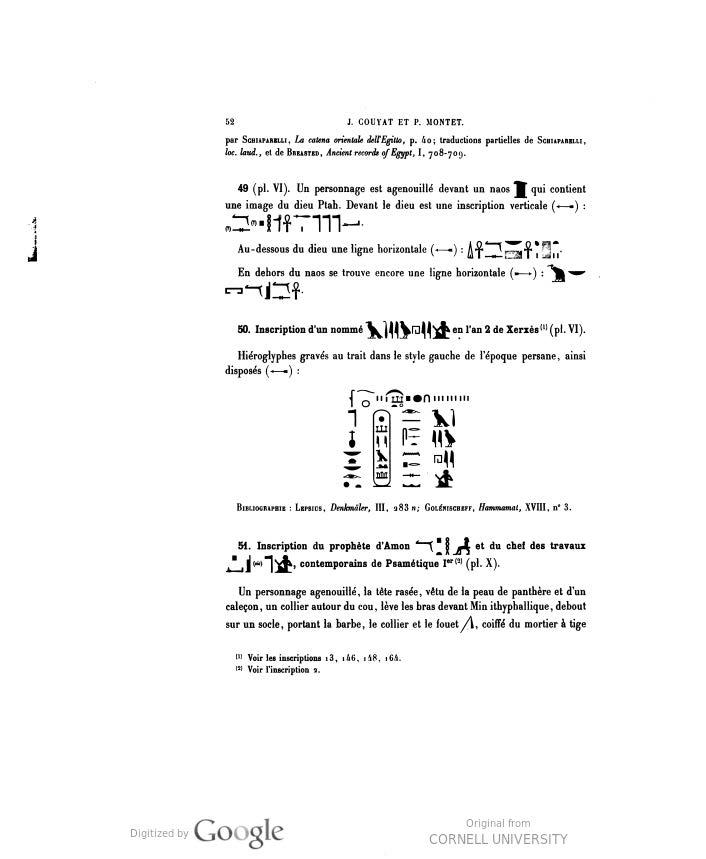circle: (364, 406, 399, 492)
